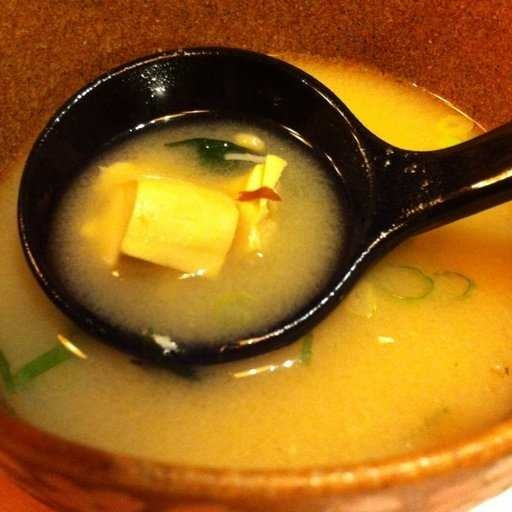soup: (1, 34, 488, 474)
